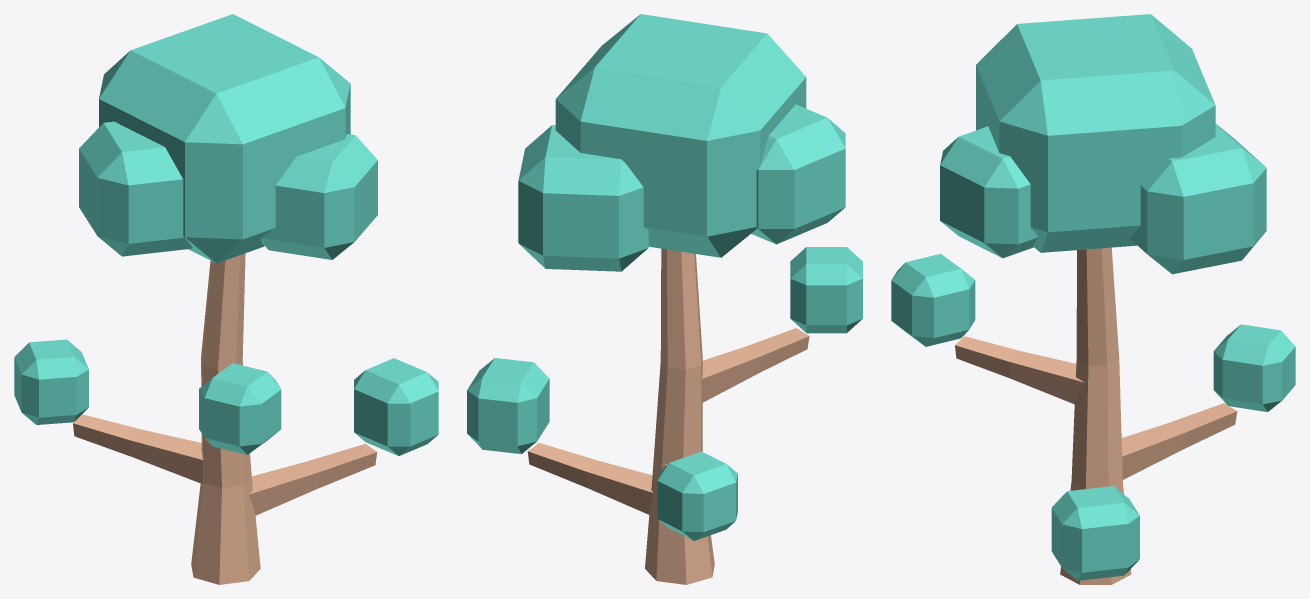
File: climbtree_oak.glb
The picture shows the model from 3 angles, left to right: view 1: azimuth 30°, elevation 25°; view 2: azimuth 150°, elevation 25°; view 3: azimuth 270°, elevation 25°; orthographic projection.
Parts seen in each view (by area): view 1: climbtree_oak; view 2: climbtree_oak; view 3: climbtree_oak.
Part boxes in pixels (x1=…): climbtree_oak: x1=14, y1=14, x2=438, y2=584; climbtree_oak: x1=467, y1=14, x2=862, y2=584; climbtree_oak: x1=891, y1=14, x2=1295, y2=584.
Size of the model in its own units: 5.65 by 7.9 by 5.53.
